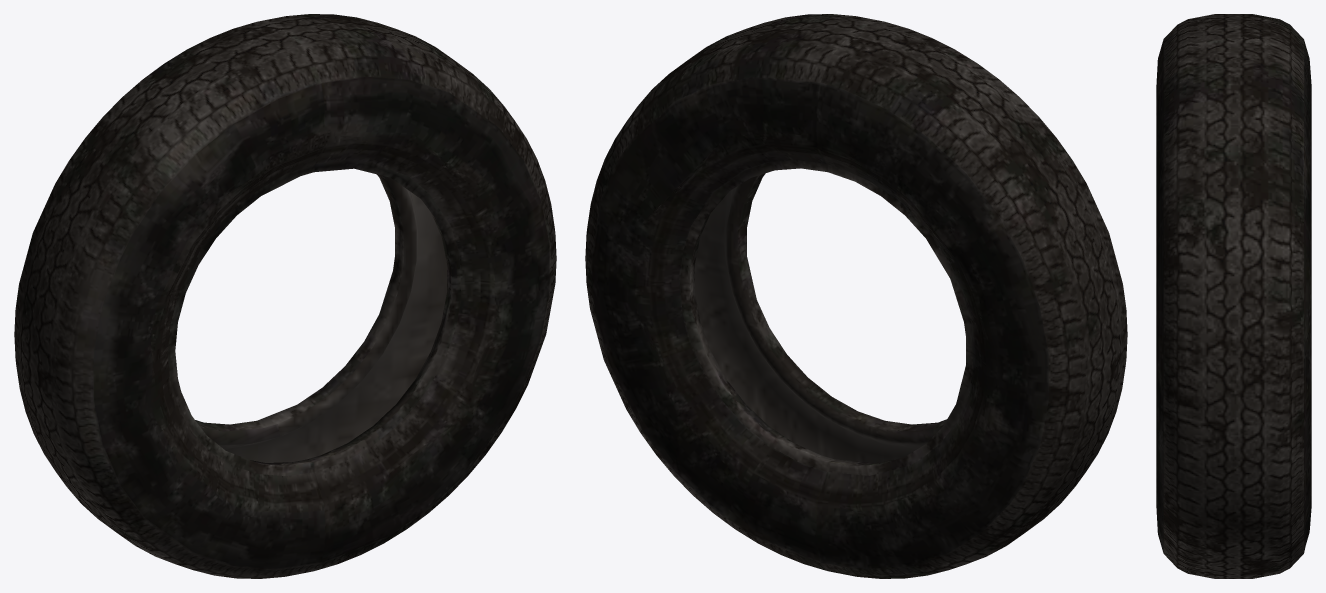
The model's file is old_tyre.glb.
The picture shows the model from 3 angles, left to right: view 1: azimuth 30°, elevation 25°; view 2: azimuth 150°, elevation 25°; view 3: azimuth 270°, elevation 25°; orthographic projection. The views are drawn at different scales.
Visible parts, largest first — view 1: old_tyre; view 2: old_tyre; view 3: old_tyre.
Boxes of the visible parts, <box> form: old_tyre: <box>14,14,556,578</box>; old_tyre: <box>585,14,1127,578</box>; old_tyre: <box>1156,14,1311,578</box>.
Size of the model in its own units: 0.6 by 0.6 by 0.165.
1 material, 1 textured.
